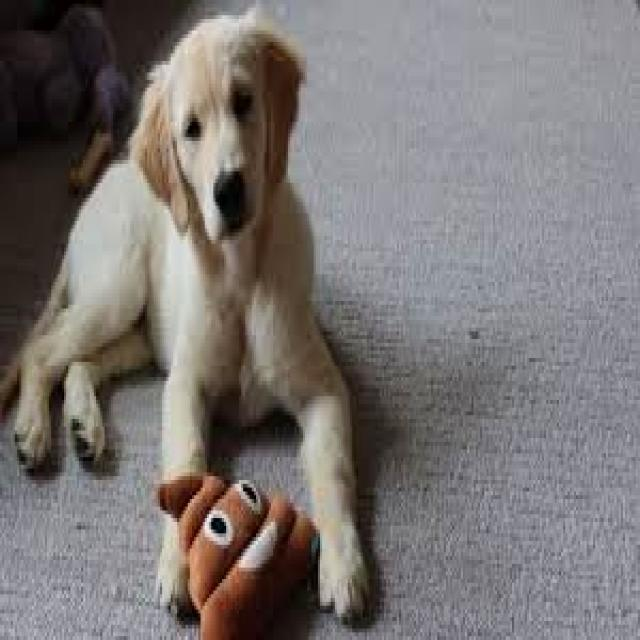dog: (0, 11, 367, 613)
